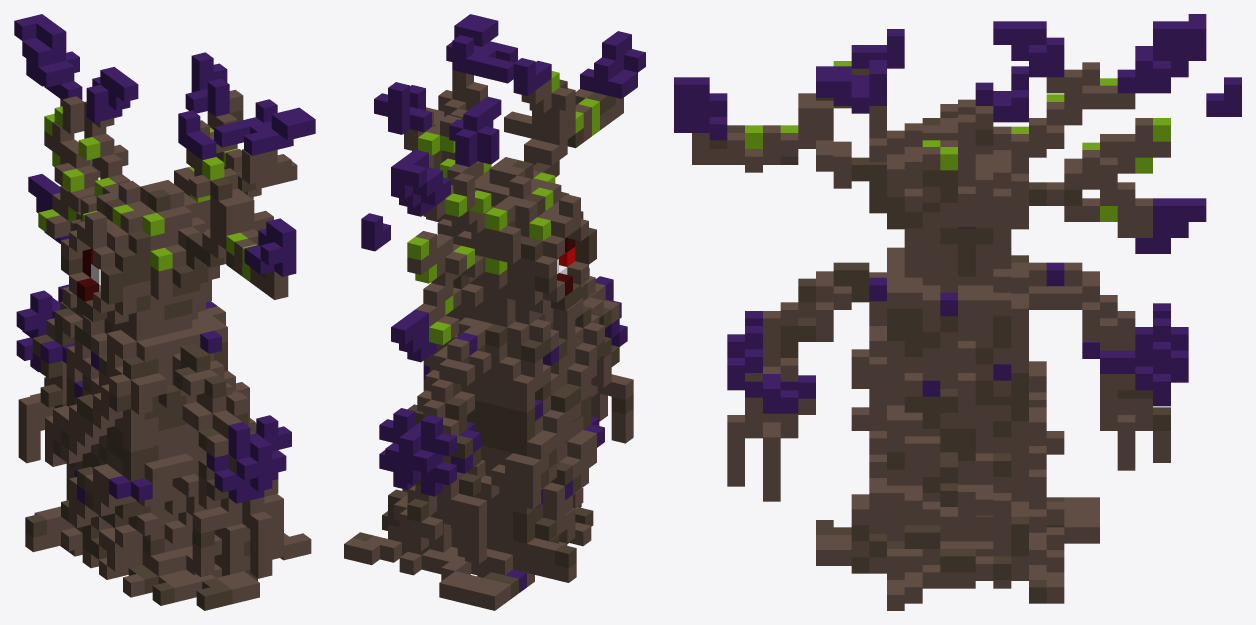
Rendered from Sietecueros_Fabian_Andres_Cetina_Rabon_fase_4.obj.
3 renders of one model, left to right at view 1: azimuth 30°, elevation 25°; view 2: azimuth 150°, elevation 25°; view 3: azimuth 270°, elevation 25°, orthographic. The views are drawn at different scales.
Parts seen in each view (by area): view 1: Sietecueros_Fabian_Andres_Cetina_Rabon_fase_4; view 2: Sietecueros_Fabian_Andres_Cetina_Rabon_fase_4; view 3: Sietecueros_Fabian_Andres_Cetina_Rabon_fase_4.
Part boxes in pixels (box(x1,y1,x2,y2)): Sietecueros_Fabian_Andres_Cetina_Rabon_fase_4: box(14, 14, 315, 610); Sietecueros_Fabian_Andres_Cetina_Rabon_fase_4: box(344, 14, 645, 610); Sietecueros_Fabian_Andres_Cetina_Rabon_fase_4: box(674, 14, 1241, 610).
Size of the model in its own units: 16 by 32 by 32.
